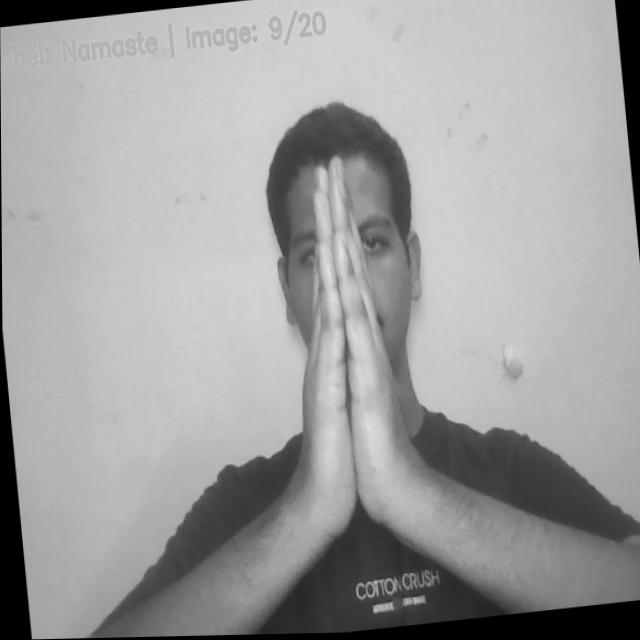Namaste: (287, 158, 411, 551)
